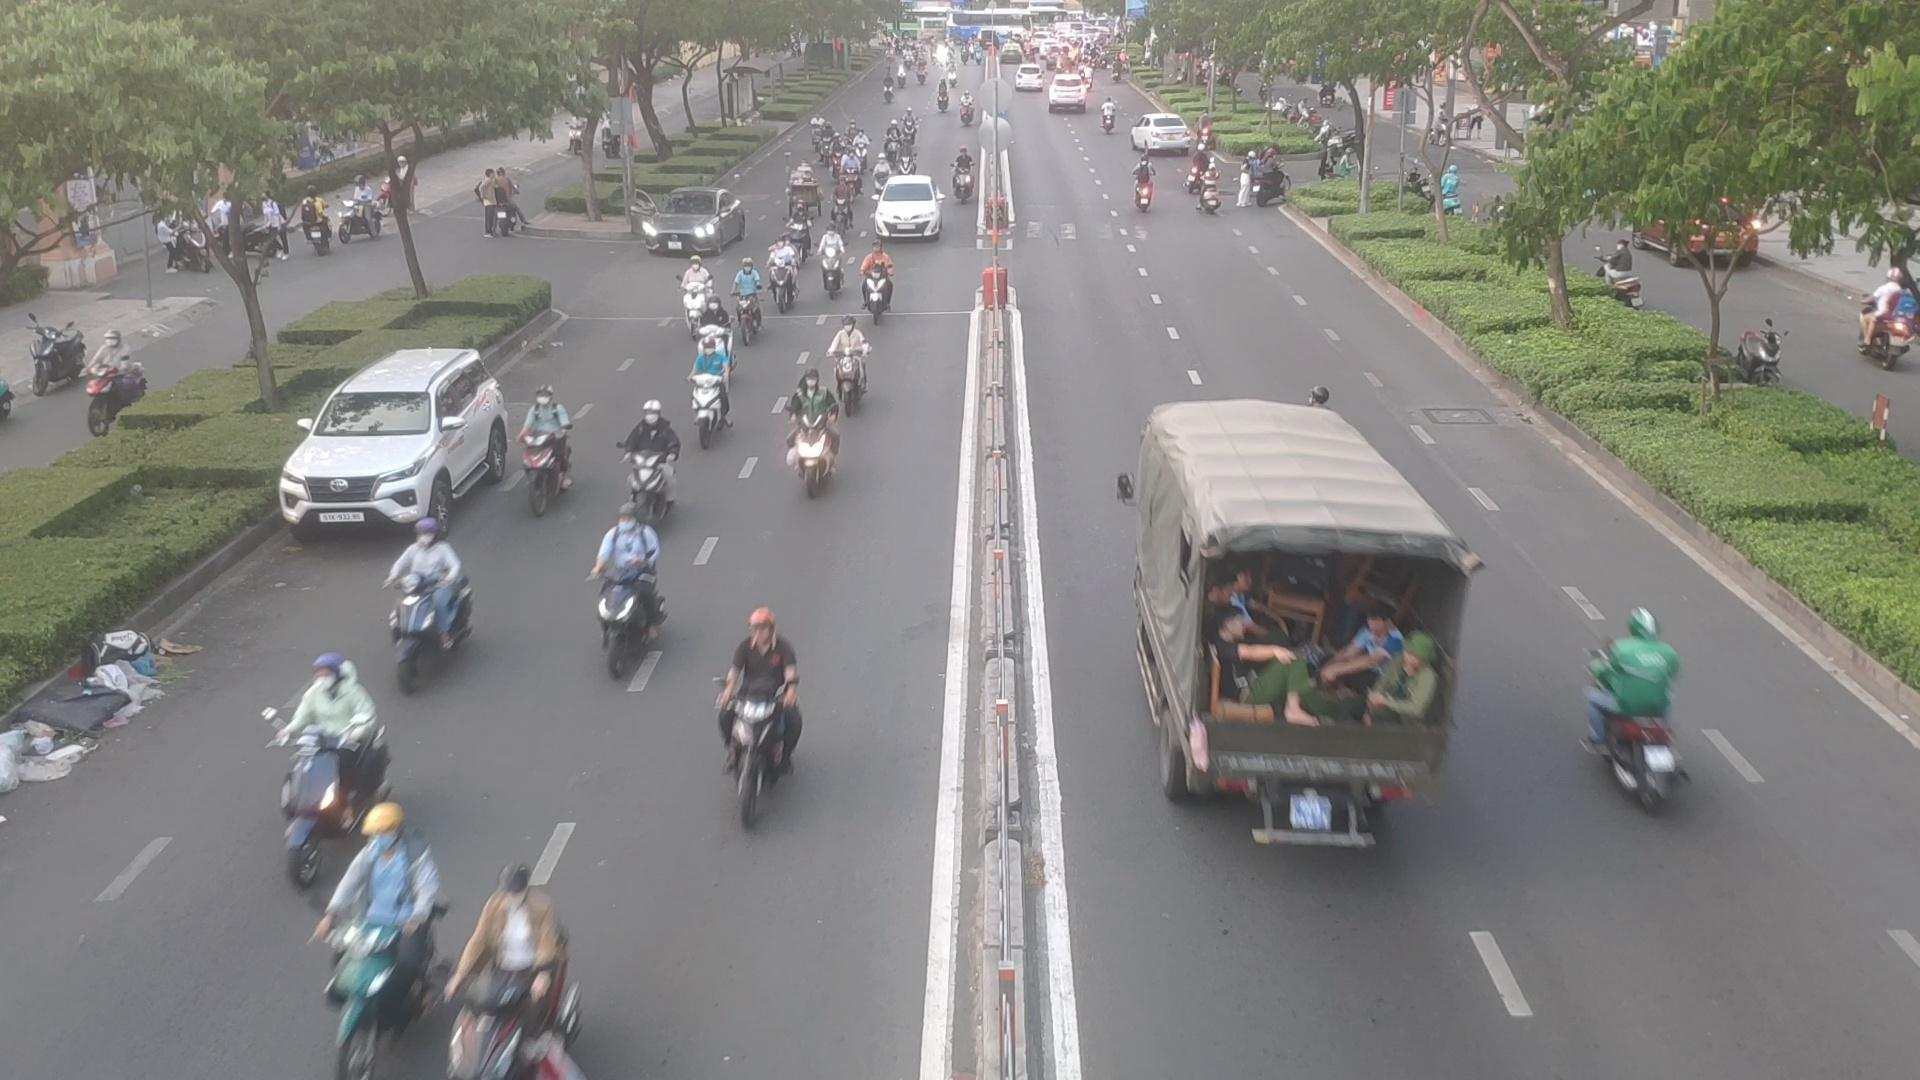car: (1146, 423, 1458, 874), (268, 343, 509, 576), (633, 189, 752, 258), (872, 179, 942, 243), (1138, 115, 1197, 158)
motorbike: (458, 862, 633, 1080), (229, 646, 386, 855), (303, 822, 415, 1054), (1593, 593, 1705, 820), (700, 613, 807, 820), (394, 525, 462, 698), (512, 386, 574, 510), (597, 510, 647, 653), (620, 415, 676, 527), (683, 338, 736, 440), (783, 368, 829, 473), (825, 311, 868, 415), (857, 243, 889, 328), (762, 229, 793, 310), (949, 140, 976, 214), (670, 262, 699, 328), (731, 262, 760, 328), (698, 299, 731, 355), (820, 229, 844, 302), (1131, 158, 1156, 214), (789, 200, 811, 258), (1203, 164, 1222, 214), (895, 140, 918, 183), (832, 182, 851, 233), (1188, 146, 1207, 191), (853, 127, 869, 173), (872, 154, 887, 199), (829, 132, 844, 175), (818, 125, 833, 164), (884, 120, 898, 161), (847, 146, 857, 196)
